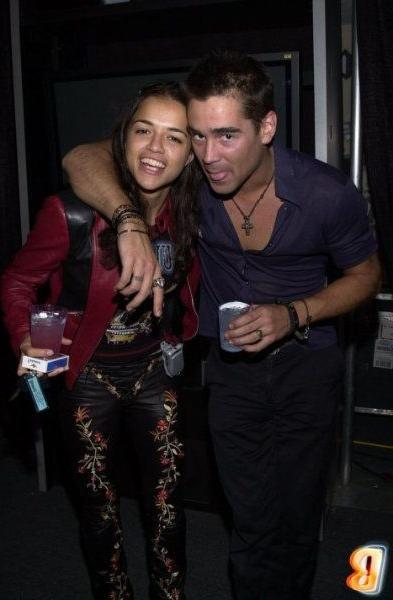Drunk: (190, 99, 253, 190), (127, 98, 186, 188)
